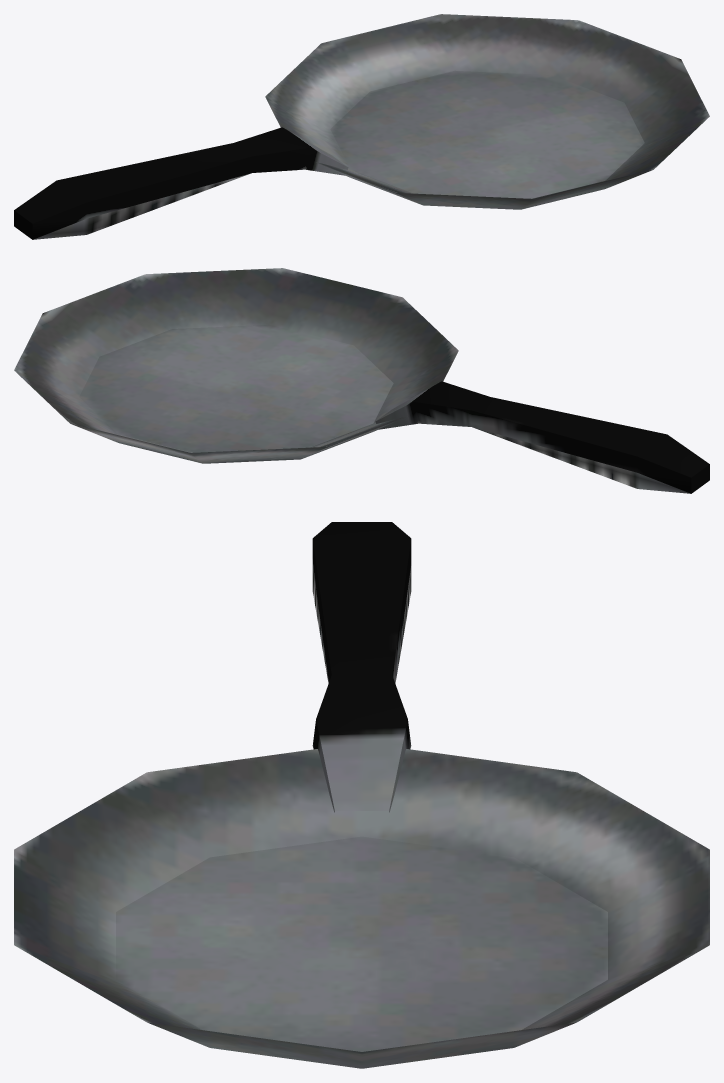
File: eqp_cook_frying_pan_l1.fbx
3 renders of one model, top to bottom at view 1: azimuth 30°, elevation 25°; view 2: azimuth 150°, elevation 25°; view 3: azimuth 270°, elevation 25°, orthographic. The views are drawn at different scales.
Parts seen in each view (by area): view 1: mesh_node; view 2: mesh_node; view 3: mesh_node.
Boxes of the visible parts, x1,y1,x2,y2 form: mesh_node: (14, 14, 709, 239); mesh_node: (14, 268, 709, 493); mesh_node: (14, 522, 709, 1068).
Bounding box in the file's own units: 0.4458 × 0.0353 × 0.2496.
